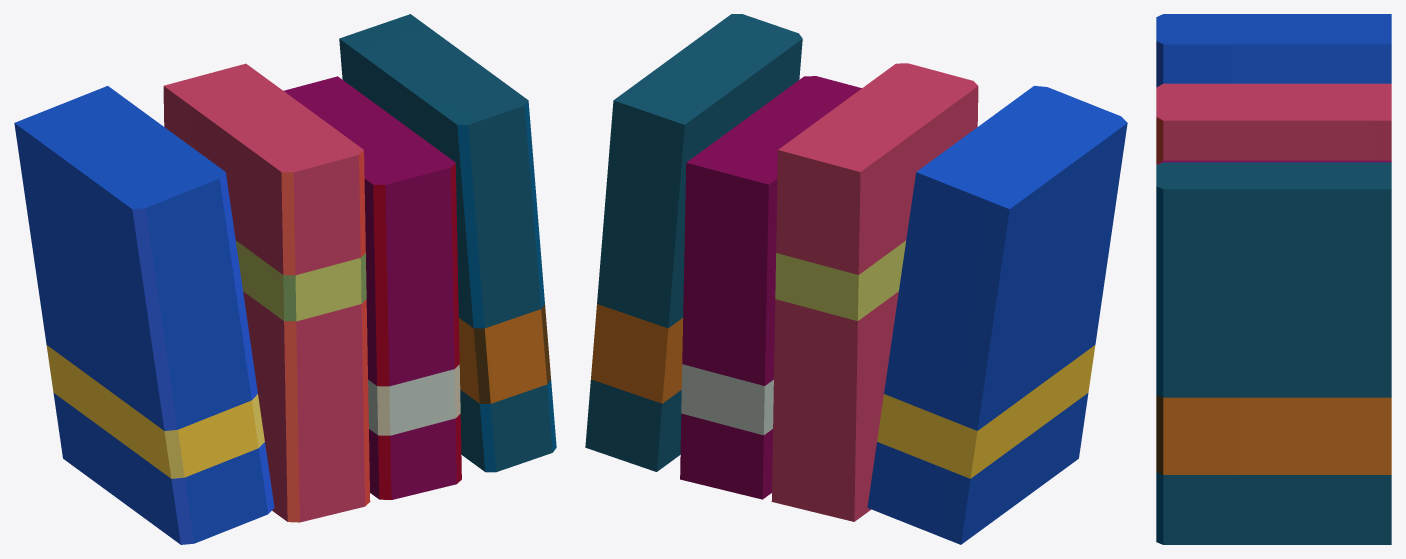
File: Books_2025.fbx
3 renders of one model, left to right at view 1: azimuth 30°, elevation 25°; view 2: azimuth 150°, elevation 25°; view 3: azimuth 270°, elevation 25°, orthographic. The views are drawn at different scales.
Visible parts, largest first — view 1: Books; view 2: Books; view 3: Books.
Part boxes in pixels (left/top/right/bottom): Books: left=14, top=14, right=556, bottom=544; Books: left=585, top=14, right=1127, bottom=544; Books: left=1156, top=14, right=1391, bottom=544.
Size of the model in its own units: 0.5314 by 0.4368 by 0.2636.
